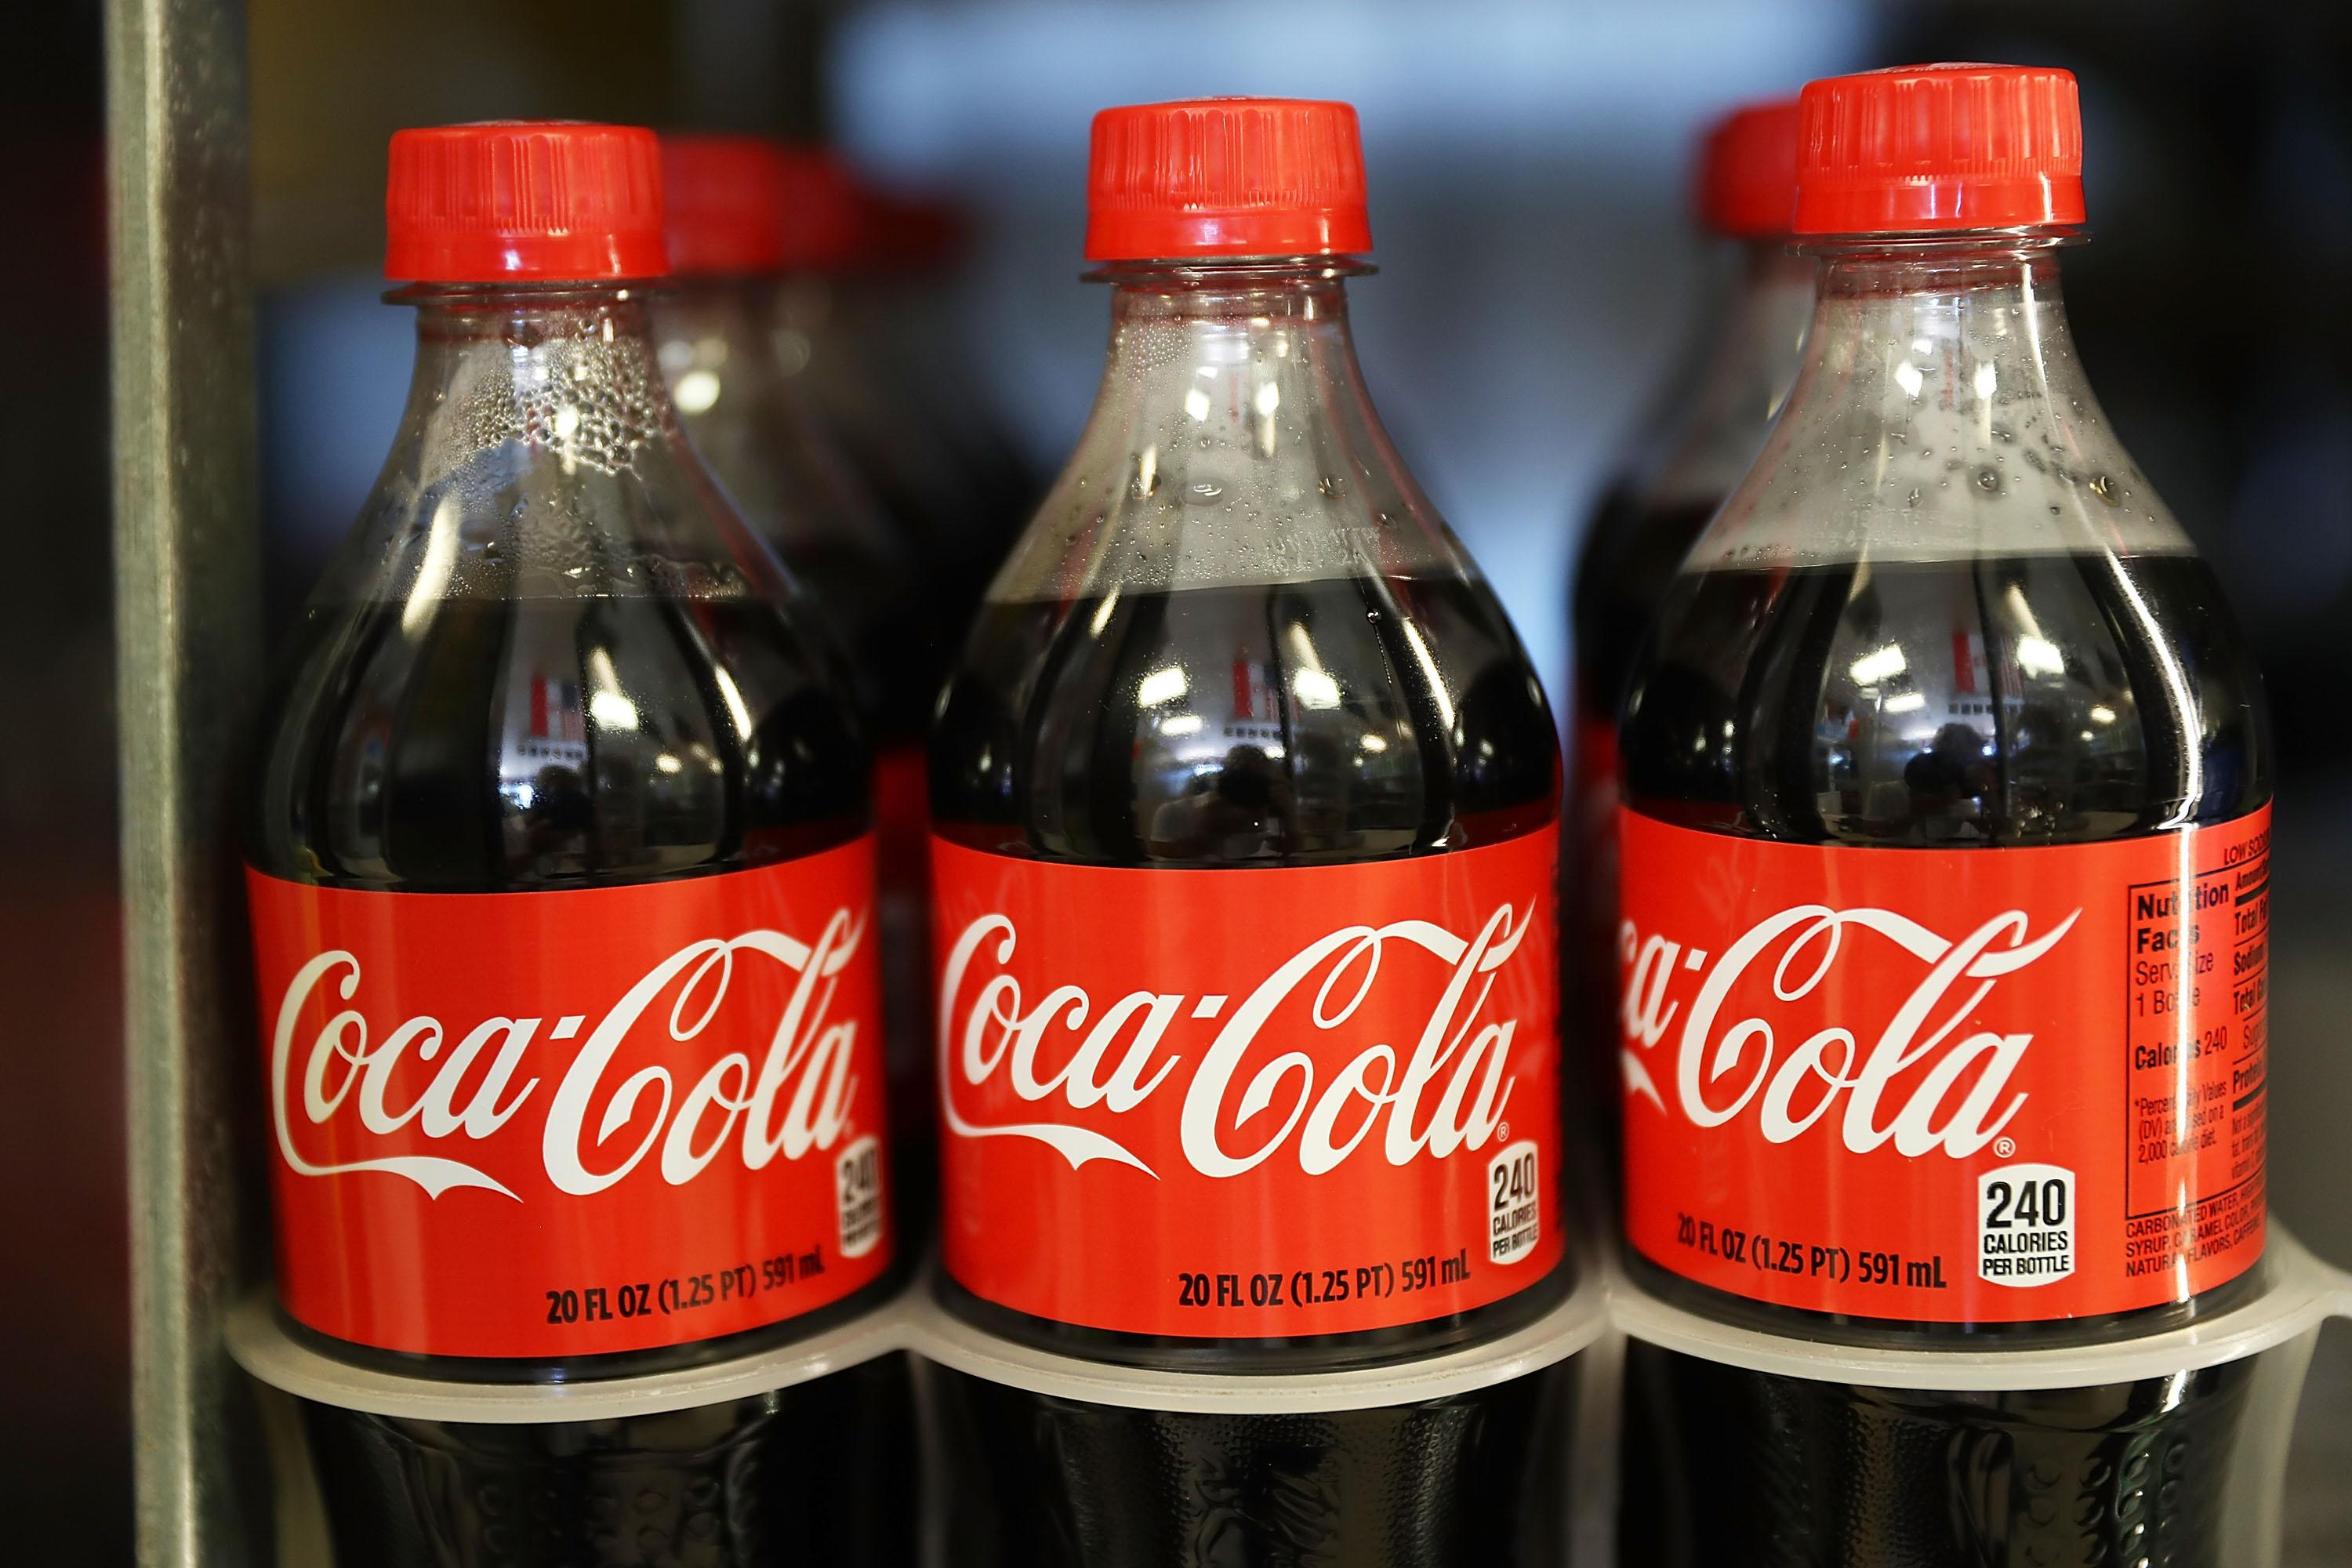Coca-Cola: (924, 165, 1542, 1528), (245, 180, 863, 1542), (1605, 171, 2222, 1533)
